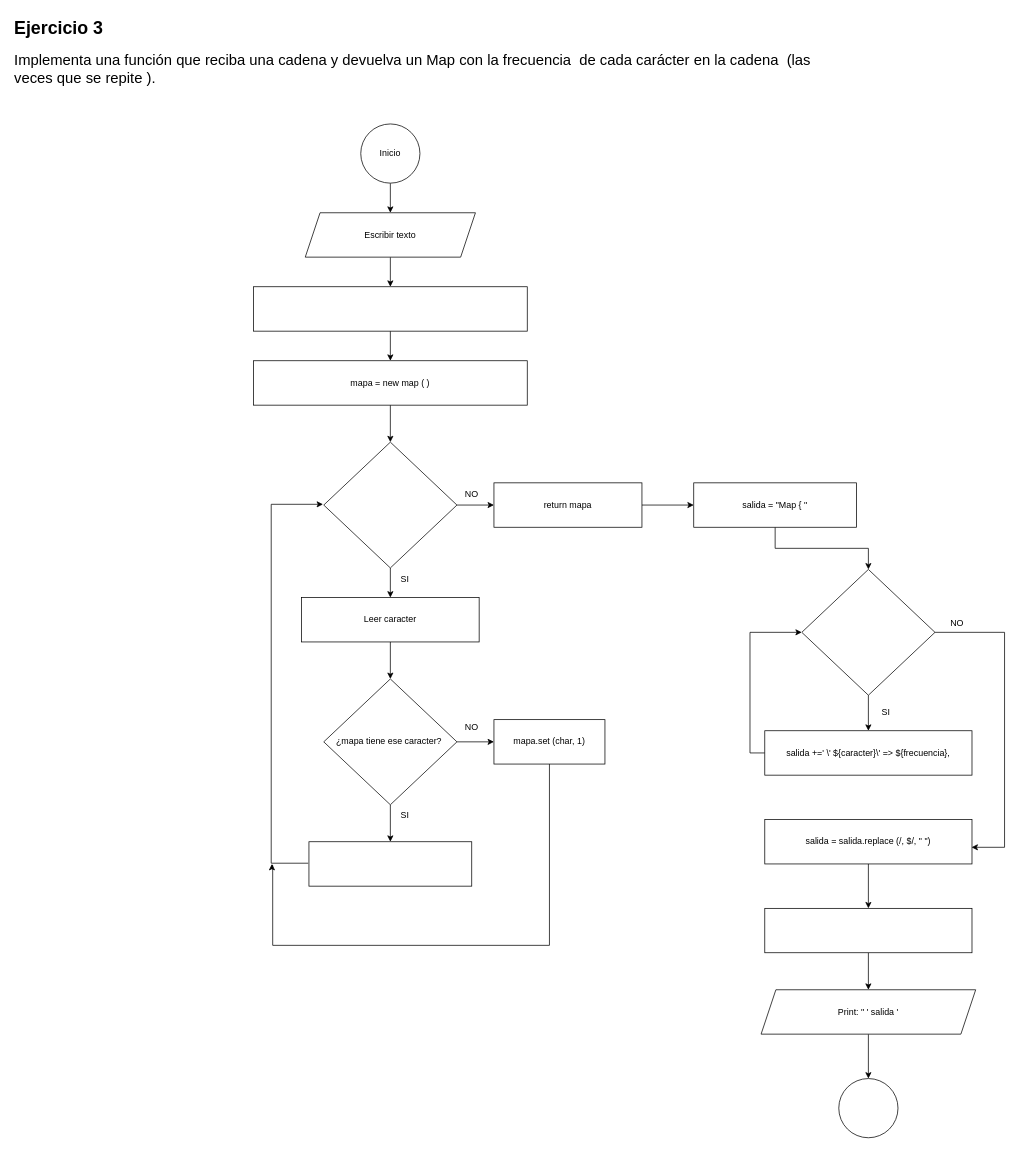
The diagram is 1023 pixels wide and 1151 high, and some of its shapes have lost their labels. The shapes that lost their labels are listed below. From the top down, each one's box as (x1, y1, x2, y2) in pixels, then its label:
(253, 286, 527, 331): resultado = frecuenciaCaracteres (input)
(323, 441, 457, 568): ¿Quedan caracteres ?
(801, 569, 935, 695): ¿Quedan pares en resultado?
(308, 841, 472, 886): mapa.set (char, mapa.get+1)
(764, 908, 972, 953): salida + = "}"
(838, 1078, 898, 1138): Fin
